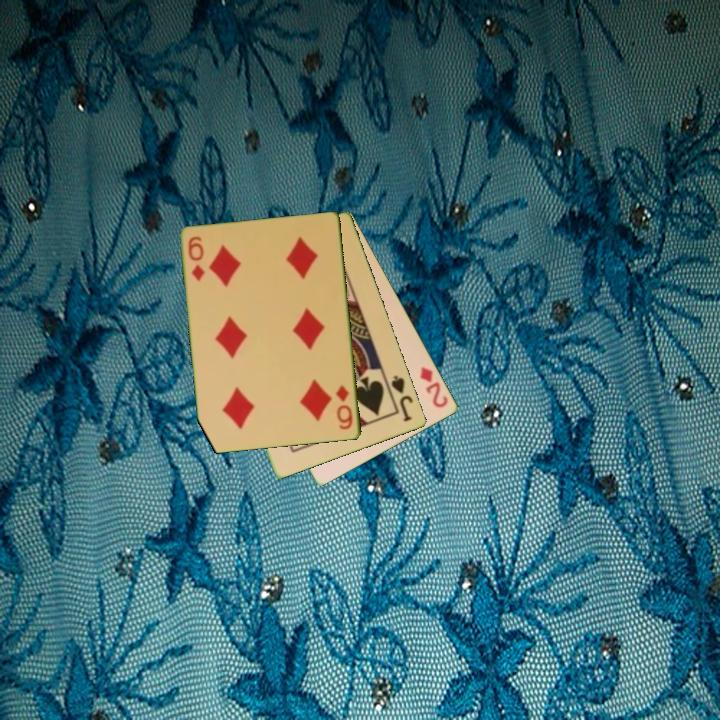2d: (417, 363, 451, 411)
6d: (333, 382, 356, 433), (185, 233, 208, 284)
Js: (388, 372, 416, 425)
